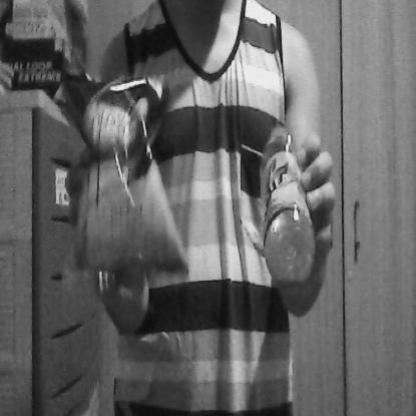Plastic Bottle: (251, 105, 325, 298)
